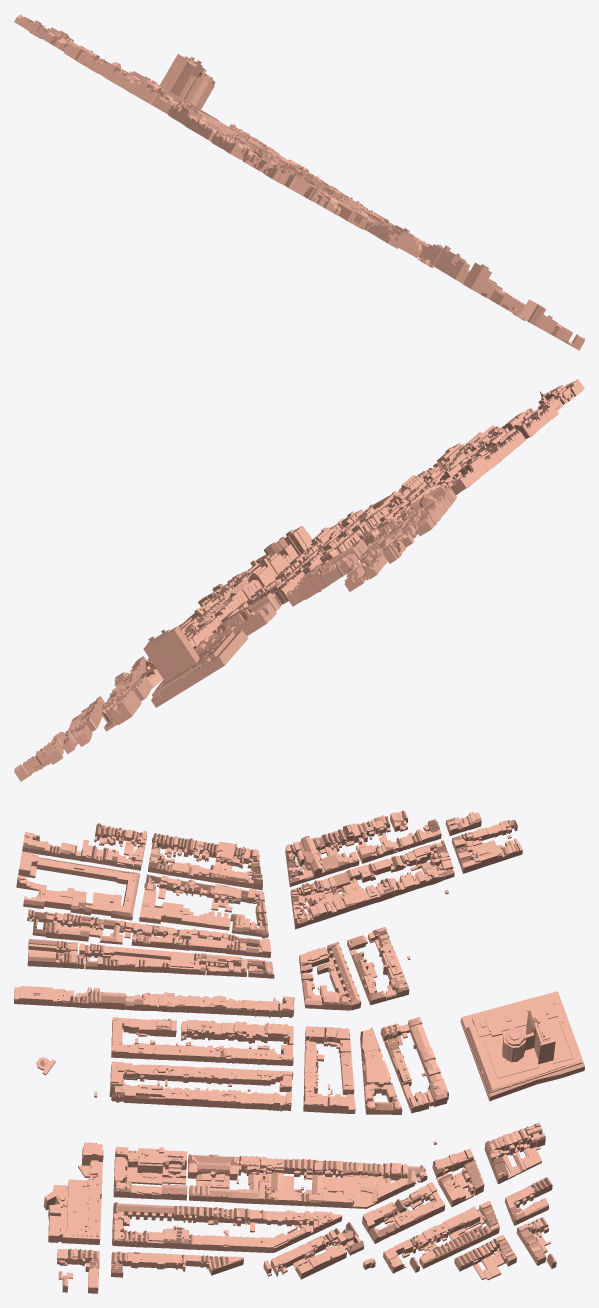
The picture shows the model from 3 angles, top to bottom: view 1: azimuth 30°, elevation 25°; view 2: azimuth 150°, elevation 25°; view 3: azimuth 270°, elevation 25°; orthographic projection. The views are drawn at different scales.
Size of the model in its own units: 1.79e+07 by 1.3e+07 by 2.25e+07.
